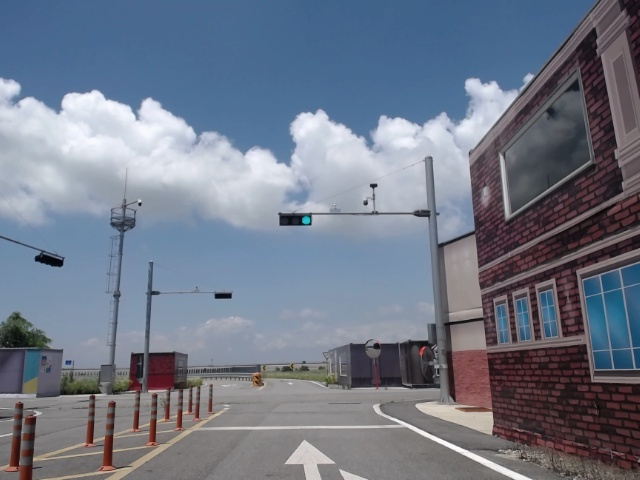green_3: (280, 215, 311, 226)
